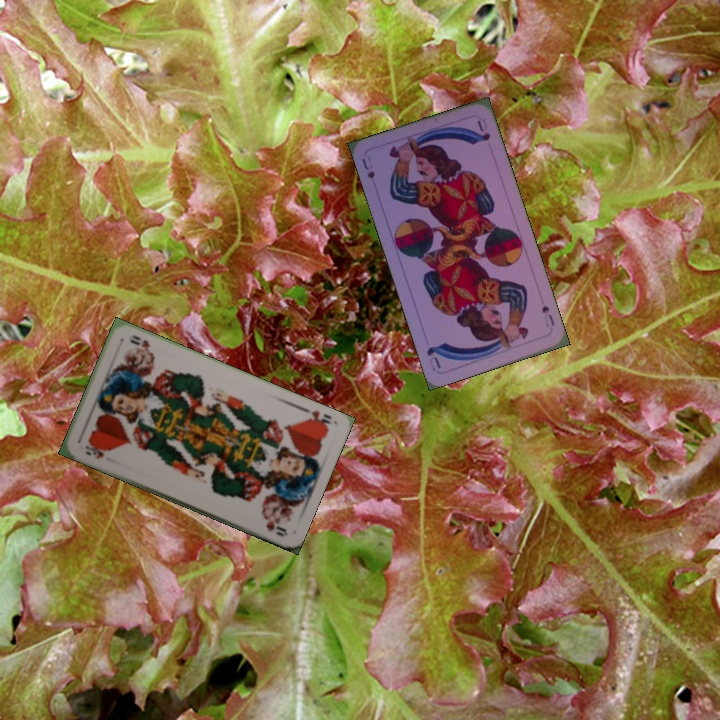HO: (297, 403, 334, 431), (81, 441, 107, 461)
SU: (358, 152, 377, 181), (538, 301, 557, 330)
